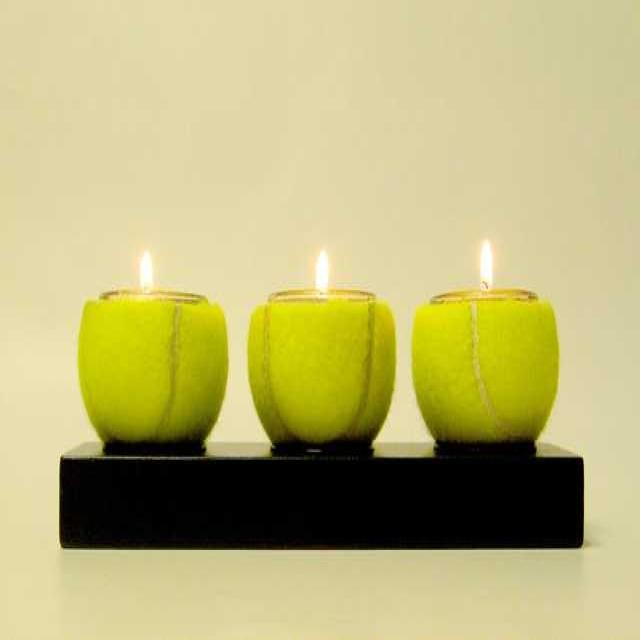Tennis_Ball: (84, 300, 223, 450), (254, 308, 390, 444), (416, 304, 558, 434)
